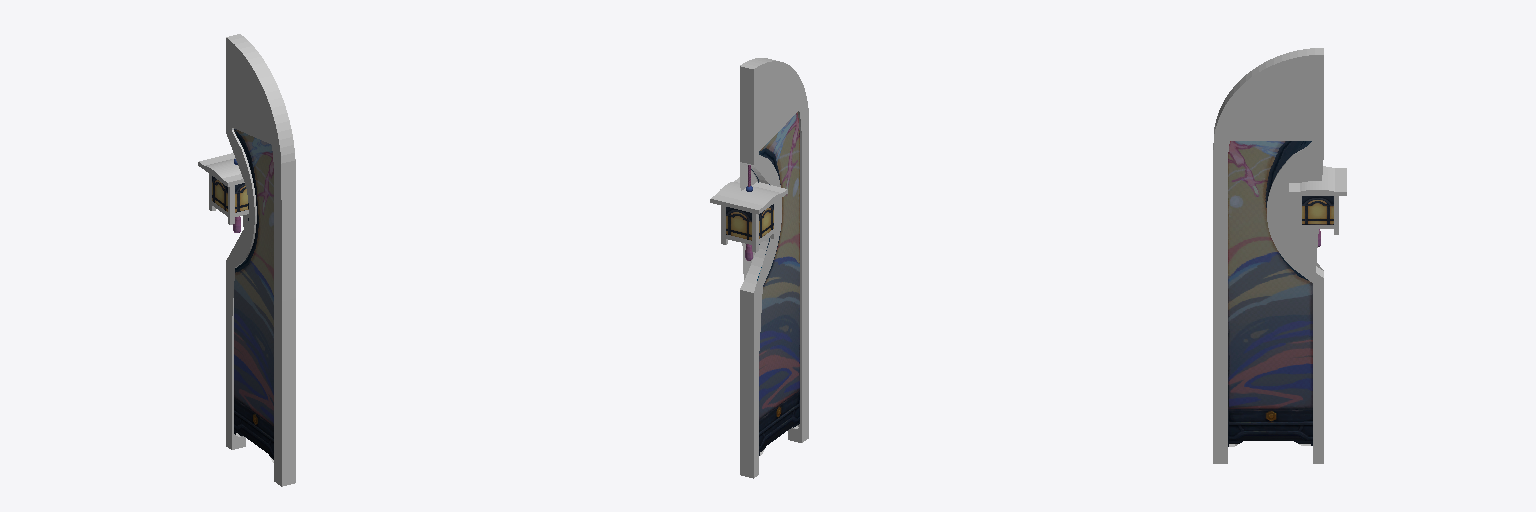
The picture shows the model from 3 angles: view 1: azimuth 30°, elevation 25°; view 2: azimuth 150°, elevation 25°; view 3: azimuth 270°, elevation 25°; orthographic projection.
Visible parts, largest first — view 1: Biombo_Cube.001; view 2: Biombo_Cube.001; view 3: Biombo_Cube.001.
Part boxes in pixels (x1,y1,x2,y2): Biombo_Cube.001: (198, 34, 295, 486); Biombo_Cube.001: (710, 58, 808, 478); Biombo_Cube.001: (1213, 48, 1346, 463).
Bounding box in the file's own units: 0.3496 × 2.82 × 0.8361.
Materials: 6 (5 with a texture image).